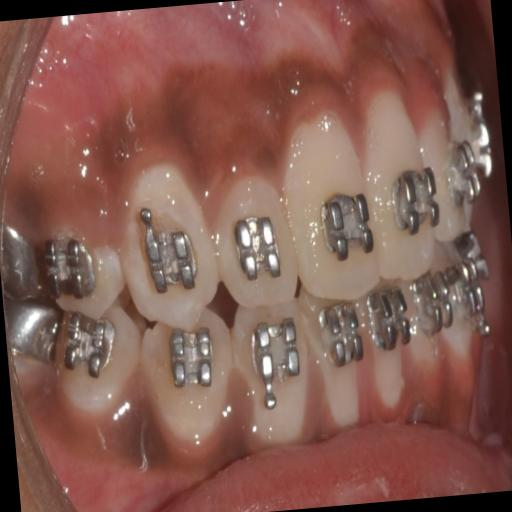correct_brace: (45, 218, 127, 321), (134, 202, 206, 307), (228, 202, 284, 293), (314, 185, 374, 266), (388, 164, 441, 244)
incorrect_brace: (212, 168, 298, 312), (47, 236, 99, 312)
